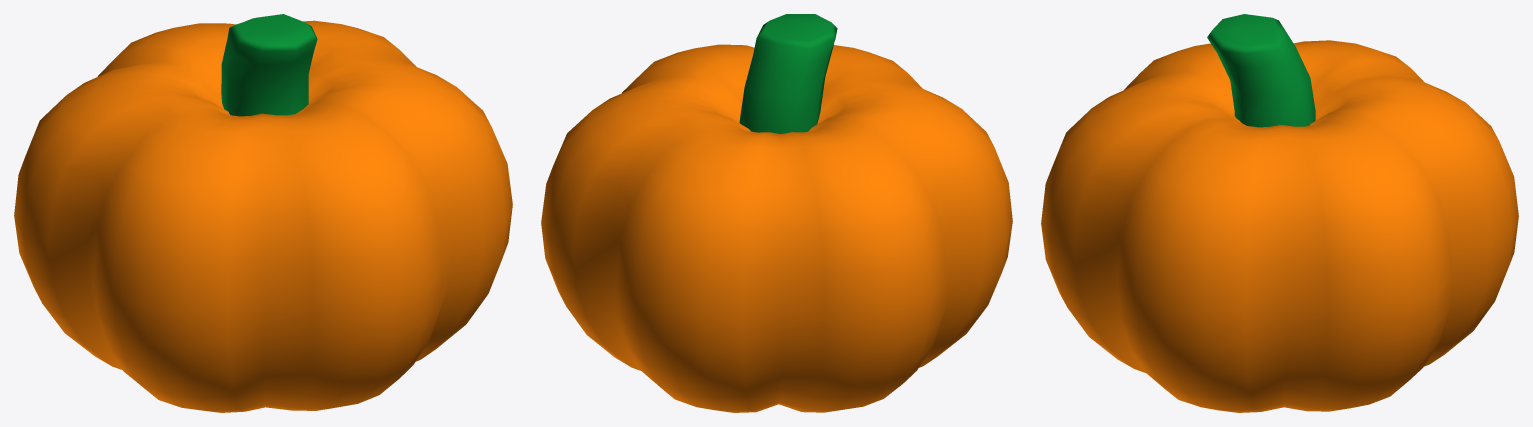
File: pumpkin.glb
3 renders of one model, left to right at view 1: azimuth 30°, elevation 25°; view 2: azimuth 150°, elevation 25°; view 3: azimuth 270°, elevation 25°, orthographic. The views are drawn at different scales.
Parts seen in each view (by area): view 1: Pumpkin; view 2: Pumpkin; view 3: Pumpkin.
Boxes of the visible parts, x1,y1,x2,y2 form: Pumpkin: (14,14,512,412); Pumpkin: (541,14,1012,412); Pumpkin: (1041,14,1518,412).
Bounding box in the file's own units: 0.3076 × 0.2576 × 0.3302.
Materials: 1 (1 with a texture image).
